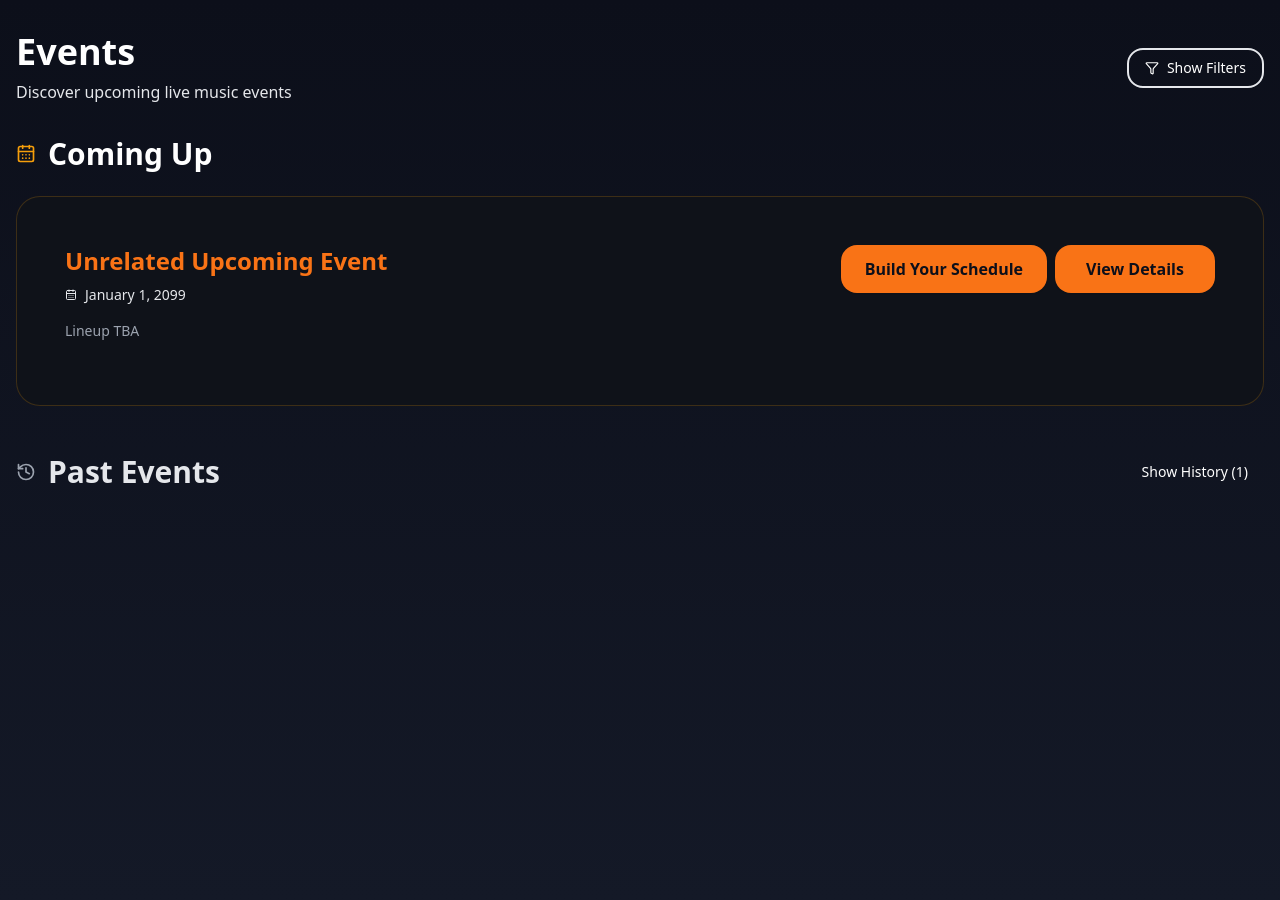
Test case: EventTimeline past-section poster lazy mounting (#658) › raises no axe violation for the single event link
Click the button "Show History (1)" at (1195, 472), box top-left (1126, 454), bottom-right (1264, 490)
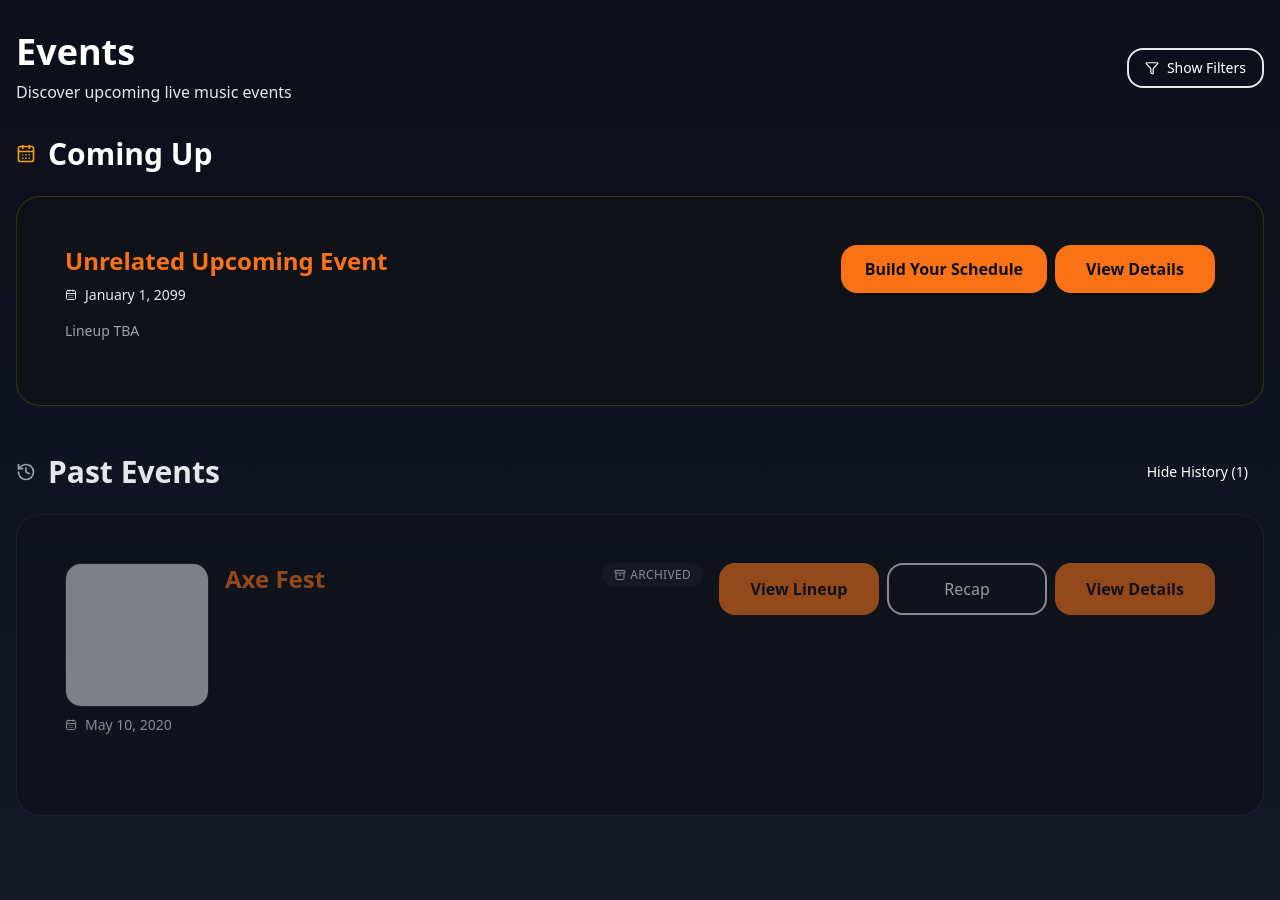
Result: the heading "Axe Fest" is shown at top-left (225, 562), bottom-right (325, 595)
